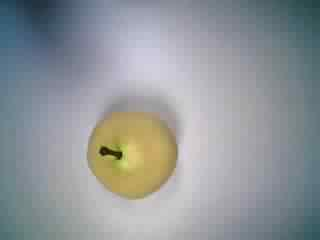pear: (80, 96, 185, 204)
